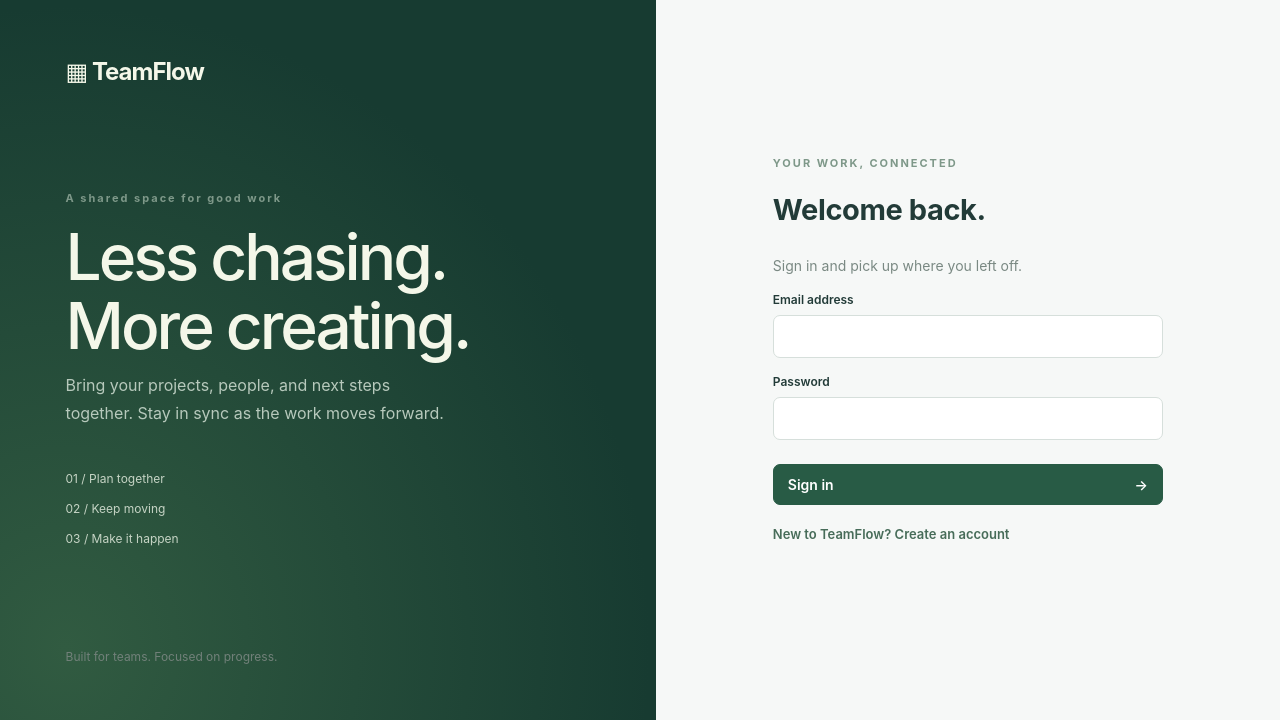
Test: Identity forms › reports failed login and preserves the form for retry
In the field labelled "Email address": (968,337) [773, 315, 1163, 358], type "user@example.com"
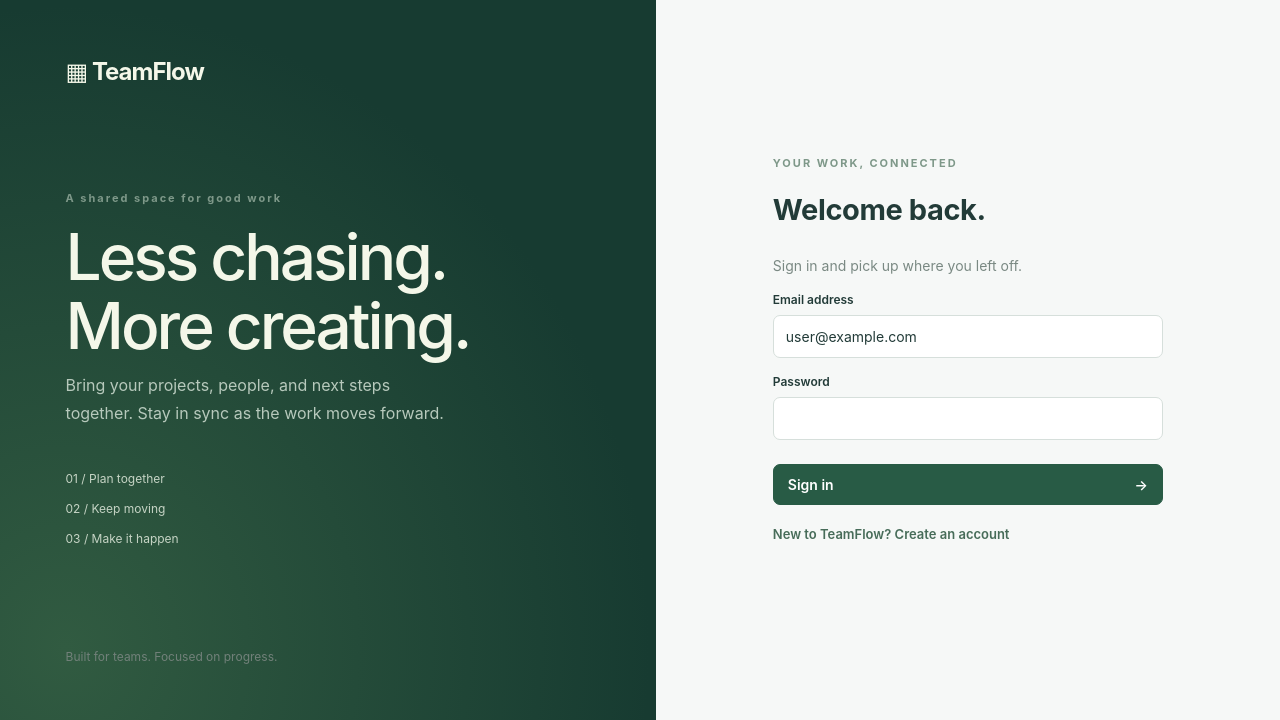
In the password field labelled "Password": (968,419) [773, 397, 1163, 440], type "invalid"
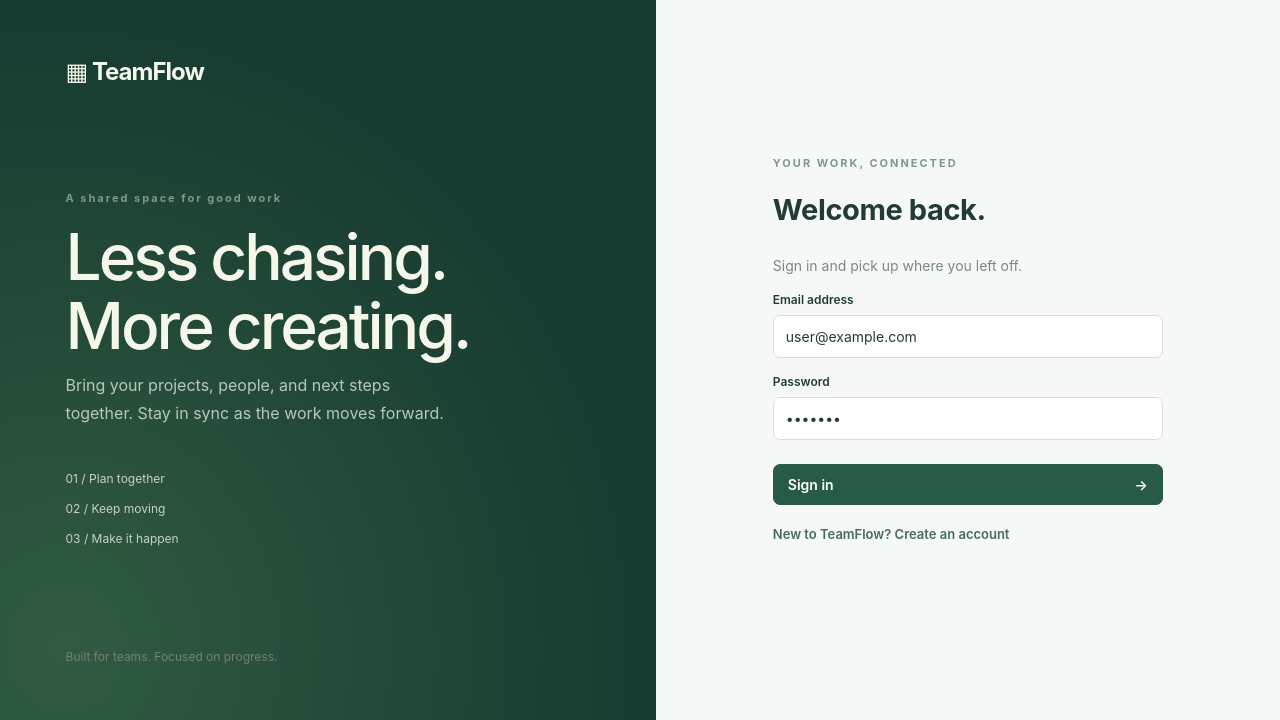
Submit the form "Email address Password Sign in →", box [773, 291, 1163, 505]
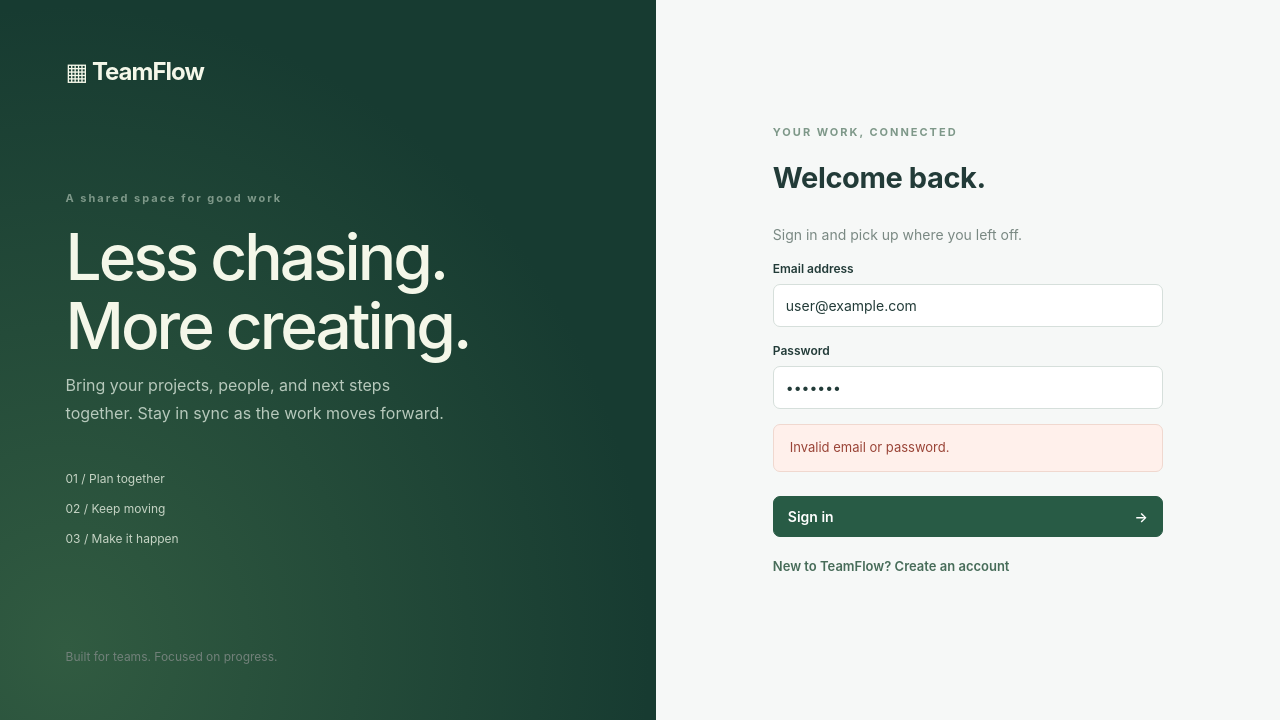
Result: the message reads "Invalid email or password." at [790, 439, 950, 455]
